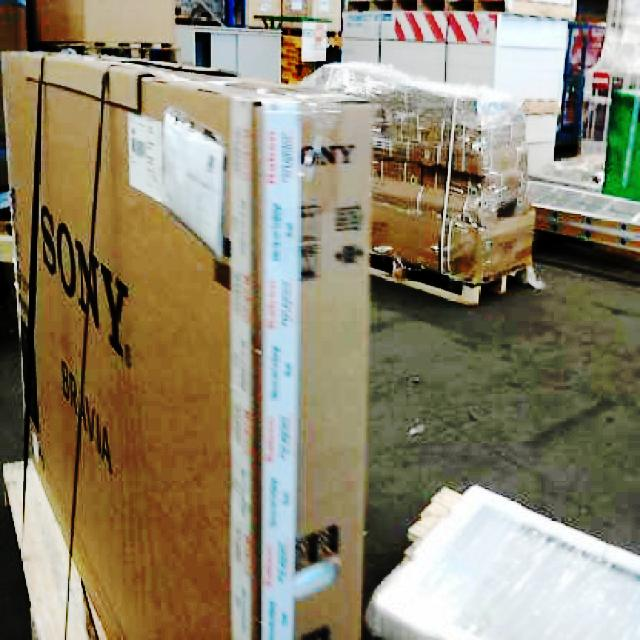ground: (375, 231, 638, 638)
pallet: (0, 46, 374, 638), (0, 458, 638, 638), (363, 483, 638, 638), (366, 88, 538, 306), (526, 174, 638, 288), (0, 202, 15, 345), (343, 0, 506, 12), (0, 205, 14, 268)
